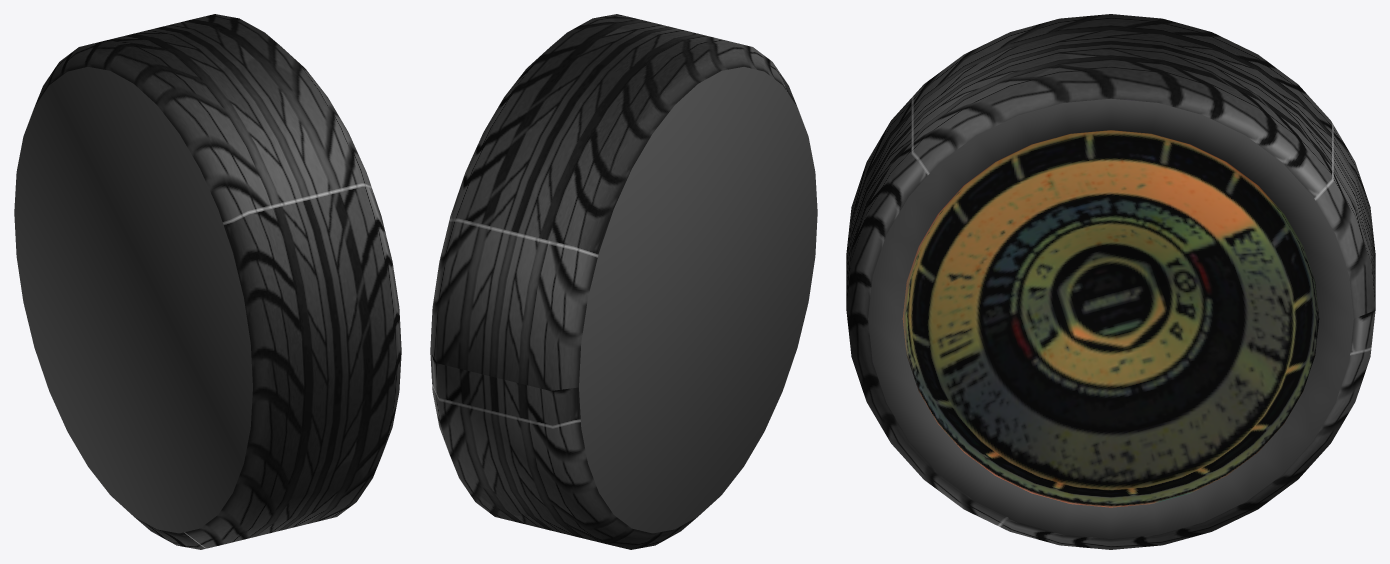
The model's file is wheel12.fbx.
3 views of the same model, side by side, from view 1: azimuth 30°, elevation 25°; view 2: azimuth 150°, elevation 25°; view 3: azimuth 270°, elevation 25° (orthographic).
Visible parts, largest first — view 1: Cylinder; view 2: Cylinder; view 3: Cylinder.
Boxes of the visible parts, x1,y1,x2,y2 form: Cylinder: (14, 14, 401, 549); Cylinder: (430, 14, 817, 549); Cylinder: (846, 14, 1375, 549).
Bounding box in the file's own units: 69.61 × 196 × 196.
Materials: 1 (1 with a texture image).
